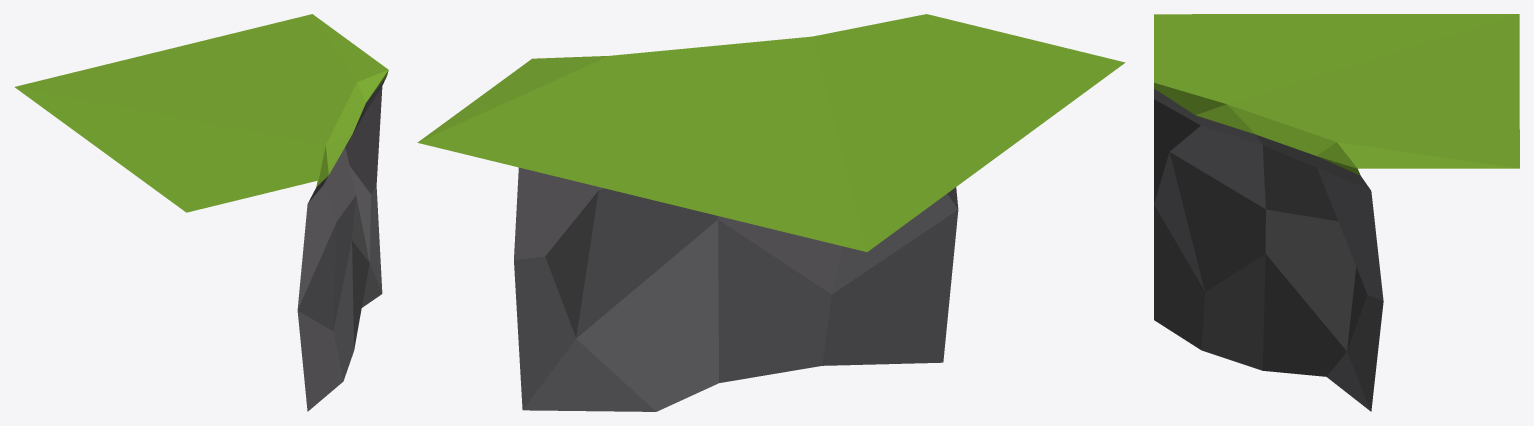
File: mesh_cliff_wall_corner_inverted.fbx
The picture shows the model from 3 angles, left to right: view 1: azimuth 30°, elevation 25°; view 2: azimuth 150°, elevation 25°; view 3: azimuth 270°, elevation 25°; orthographic projection. The views are drawn at different scales.
Visible parts, largest first — view 1: mesh_cliff_wall_corner_inverted; view 2: mesh_cliff_wall_corner_inverted; view 3: mesh_cliff_wall_corner_inverted.
Part boxes in pixels (<box>): mesh_cliff_wall_corner_inverted: <box>14,14,388,411</box>; mesh_cliff_wall_corner_inverted: <box>417,14,1125,411</box>; mesh_cliff_wall_corner_inverted: <box>1154,14,1519,411</box>.
Bounding box in the file's own units: 300 × 225 × 300.
